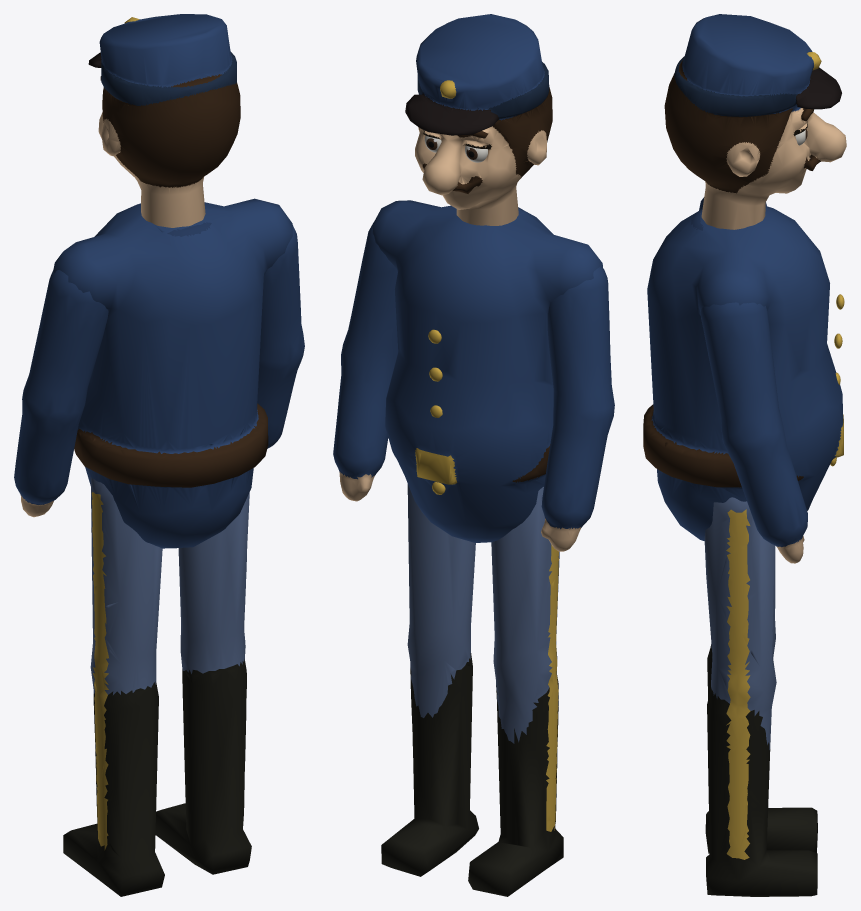
File: soldier-m.glb
3 views of the same model, side by side, from view 1: azimuth 30°, elevation 25°; view 2: azimuth 150°, elevation 25°; view 3: azimuth 270°, elevation 25° (orthographic). The views are drawn at different scales.
Parts seen in each view (by area): view 1: body_lod0, leg_l_lod0, head_lod0, leg_r_lod0, arm_l_lod0, arm_r_lod0; view 2: body_lod0, head_lod0, leg_l_lod0, leg_r_lod0, arm_l_lod0, arm_r_lod0; view 3: body_lod0, head_lod0, leg_r_lod0, arm_r_lod0, leg_l_lod0.
Boxes of the visible parts, box(x1,y1,x2,y2) form: body_lod0: box(53, 198, 292, 548); leg_l_lod0: box(63, 477, 164, 896); head_lod0: box(88, 14, 240, 227); leg_r_lod0: box(155, 492, 251, 874); arm_l_lod0: box(14, 270, 108, 517); arm_r_lod0: box(257, 225, 304, 448); body_lod0: box(372, 200, 603, 542); head_lod0: box(405, 14, 552, 225); leg_l_lod0: box(468, 487, 563, 896); leg_r_lod0: box(381, 484, 478, 876); arm_l_lod0: box(541, 267, 614, 551); arm_r_lod0: box(333, 222, 398, 501); body_lod0: box(643, 197, 844, 540); head_lod0: box(664, 14, 846, 229); leg_r_lod0: box(704, 497, 817, 896); arm_r_lod0: box(700, 302, 807, 563); leg_l_lod0: box(705, 545, 817, 853).
Size of what is drawn, in the model's own units: 0.649 by 1.94 by 0.4242.
